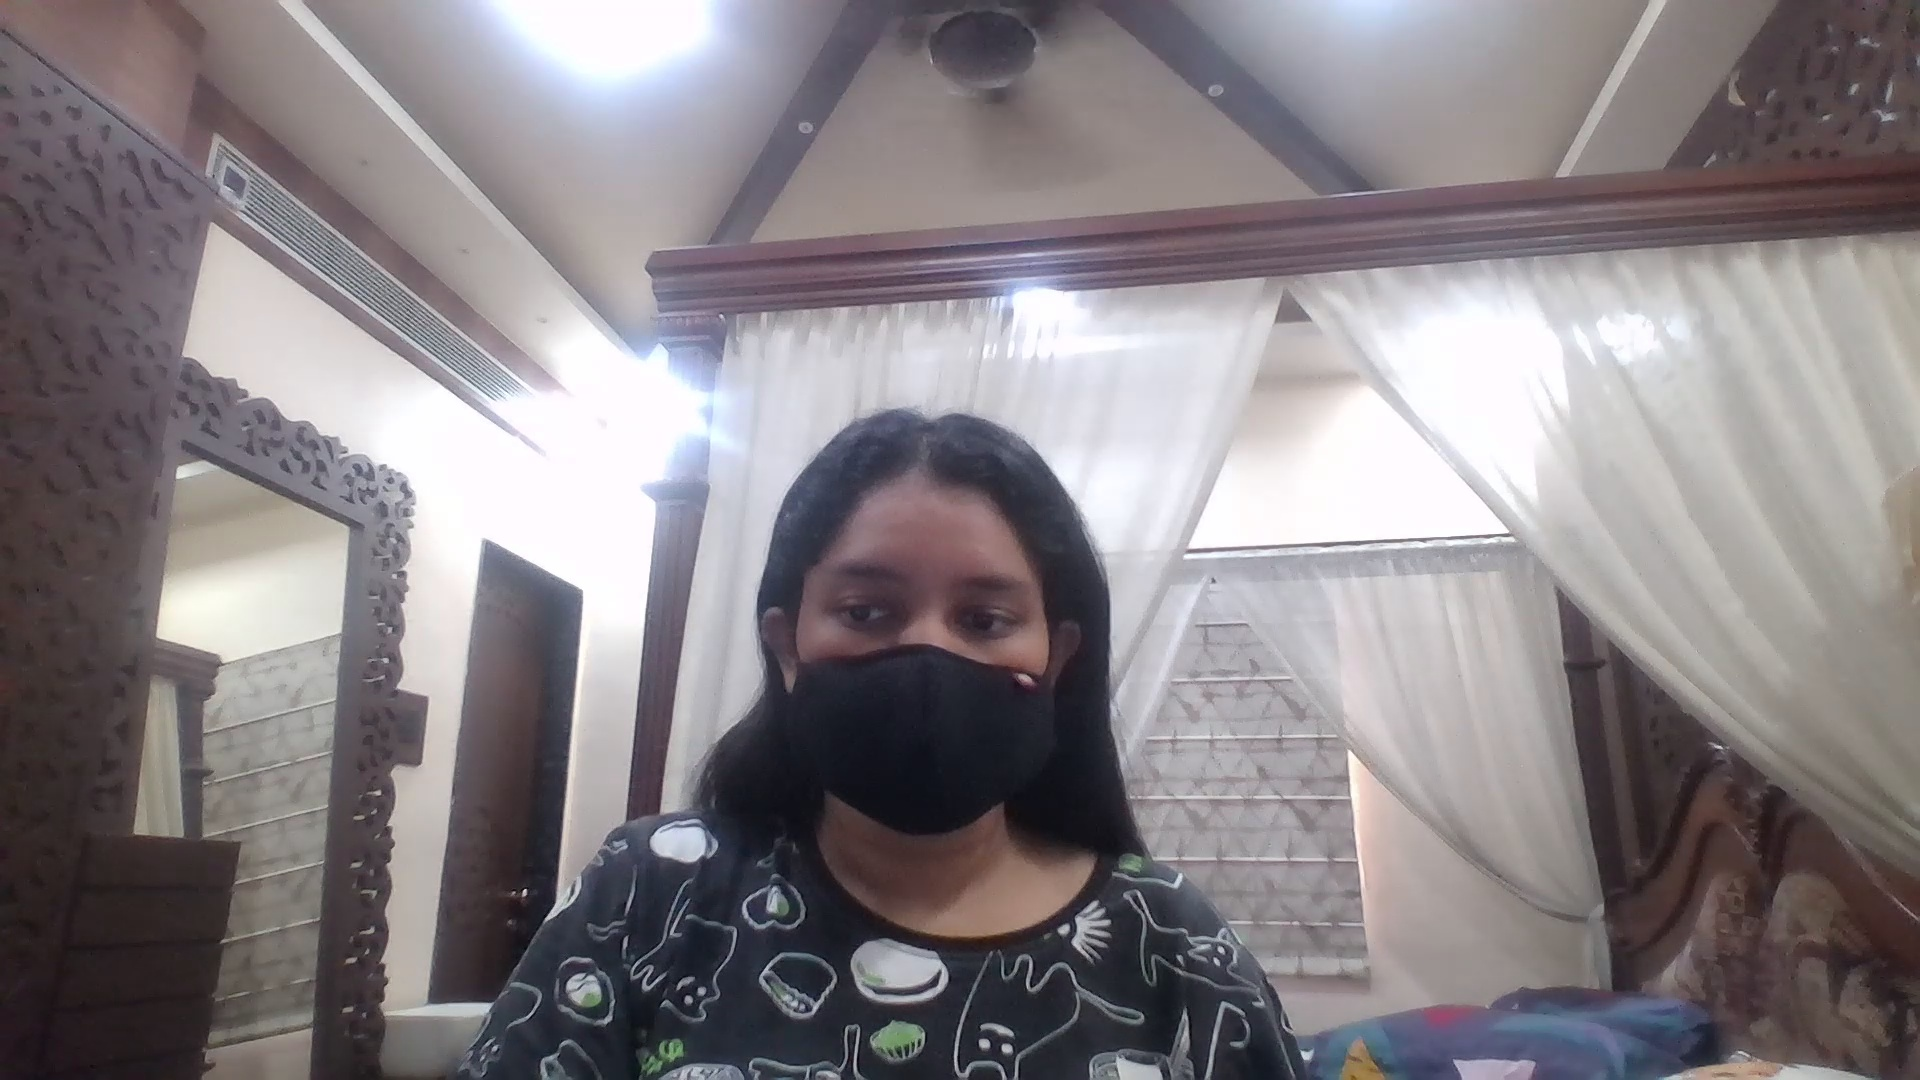Mask: (803, 650, 1042, 833)
